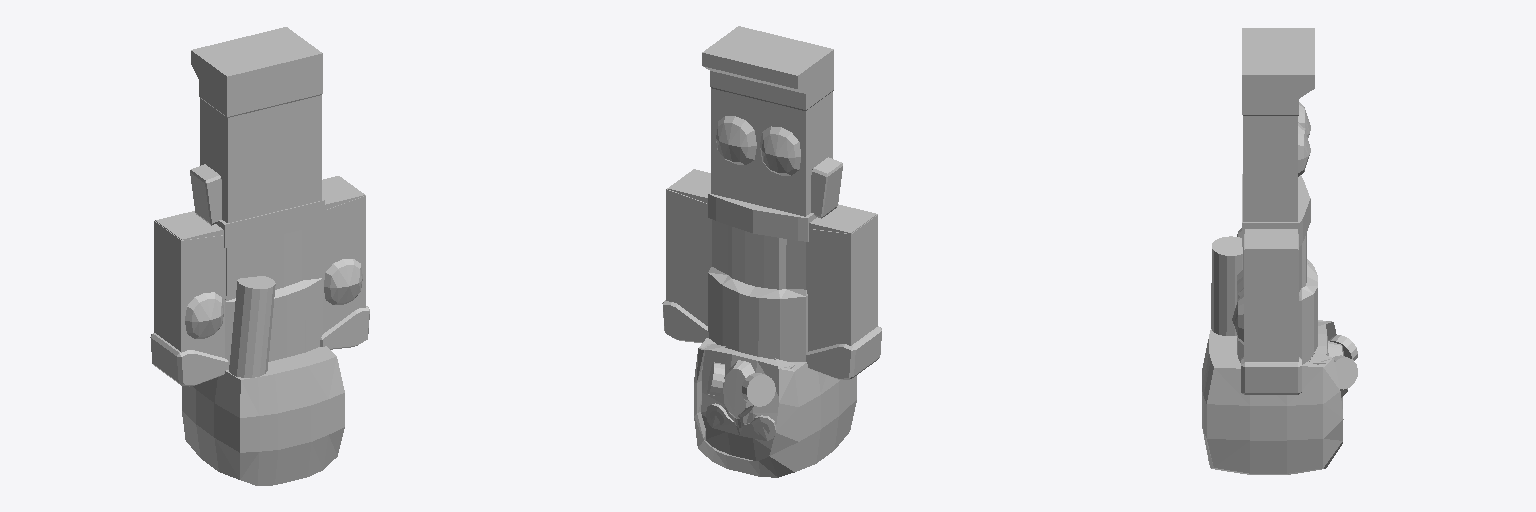
The model's file is stalker.zarya.obj.
3 renders of one model, left to right at view 1: azimuth 30°, elevation 25°; view 2: azimuth 150°, elevation 25°; view 3: azimuth 270°, elevation 25°, orthographic.
Parts seen in each view (by area): view 1: headModel, bodyModel, rightLegModel, rightArmModel, leftLegModel, leftArmModel, right_arm, left_arm; view 2: headModel, bodyModel, rightLegModel, rightArmModel, leftLegModel, leftArmModel, right_arm, left_arm; view 3: headModel, leftLegModel, leftArmModel, bodyModel, rightLegModel, left_arm.
Part boxes in pixels (x1,y1,x2,y2): headModel: (182, 346, 344, 485); bodyModel: (217, 199, 324, 377); rightLegModel: (190, 38, 275, 225); rightArmModel: (150, 221, 228, 386); leftLegModel: (239, 27, 322, 211); leftArmModel: (320, 177, 369, 349); right_arm: (155, 211, 223, 239); left_arm: (322, 176, 364, 209); headModel: (694, 338, 856, 477); bodyModel: (708, 192, 816, 361); rightLegModel: (749, 38, 842, 218); rightArmModel: (806, 214, 881, 379); leftLegModel: (702, 26, 786, 204); leftArmModel: (662, 169, 711, 342); right_arm: (809, 204, 876, 233); left_arm: (668, 169, 710, 203); headModel: (1202, 320, 1357, 474); leftLegModel: (1242, 51, 1314, 221); leftArmModel: (1232, 234, 1301, 394); bodyModel: (1211, 174, 1317, 364); rightLegModel: (1242, 28, 1314, 137); left_arm: (1245, 229, 1297, 249).
Bounding box in the file's own units: 16.81 × 33.97 × 11.77.